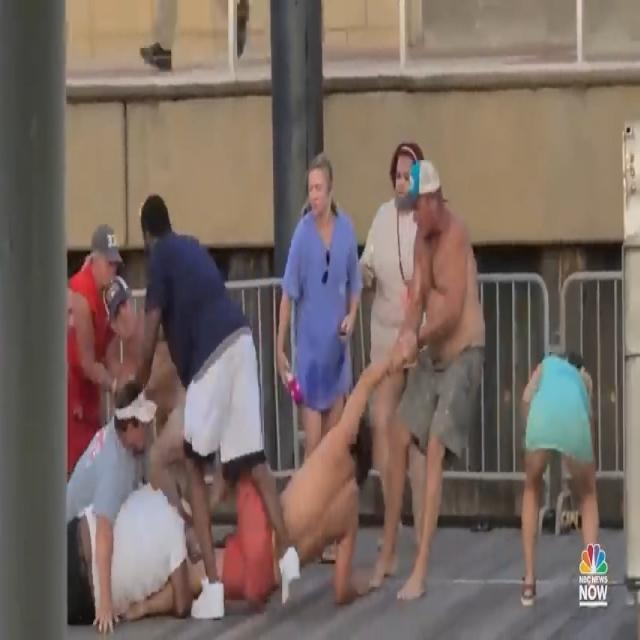fight: (59, 126, 488, 621)
non-fight: (513, 334, 614, 617)
